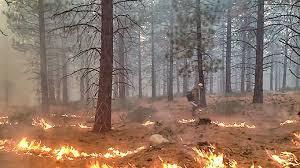fire: (16, 131, 83, 159), (189, 142, 237, 168), (263, 148, 299, 167)
smoke: (2, 50, 38, 115), (146, 99, 176, 126)
